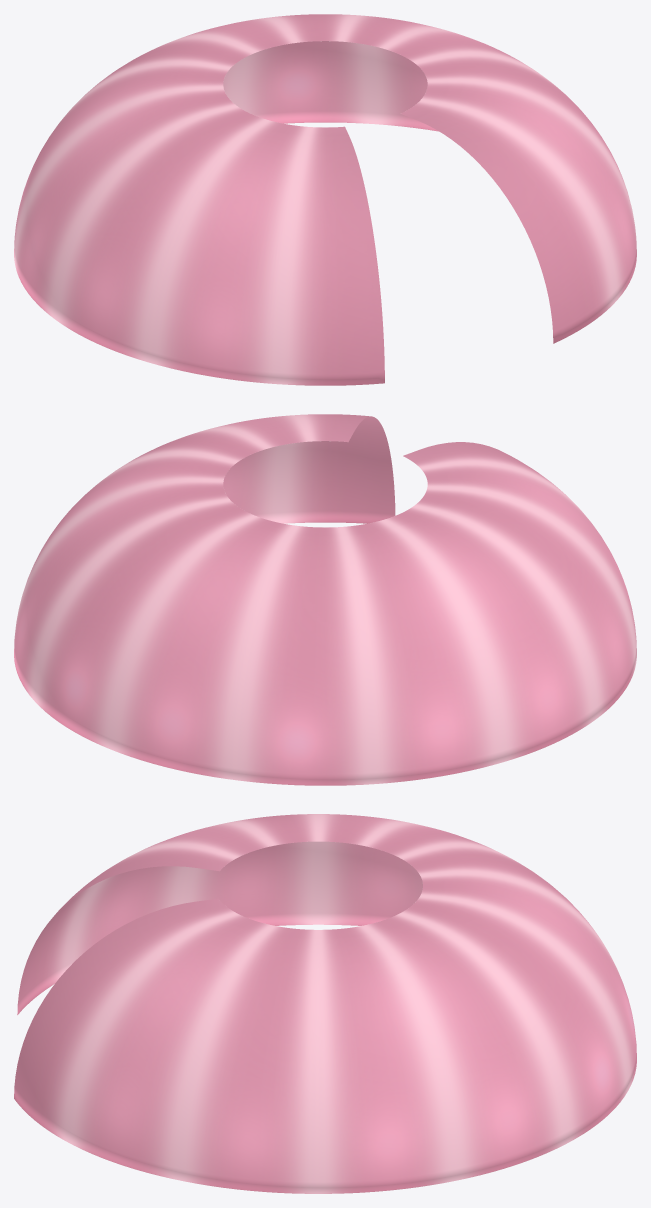
The model's file is Wall_BakedTest.glb.
3 views of the same model, one above another, from view 1: azimuth 30°, elevation 25°; view 2: azimuth 150°, elevation 25°; view 3: azimuth 270°, elevation 25° (orthographic). The views are drawn at different scales.
Visible parts, largest first — view 1: Wall.001; view 2: Wall.001; view 3: Wall.001.
Boxes of the visible parts, x1,y1,x2,y2 form: Wall.001: (14, 14, 636, 385); Wall.001: (14, 414, 636, 785); Wall.001: (14, 814, 636, 1193).
Size of the model in its own units: 50 by 15.04 by 48.9.
Materials: 1 (1 with a texture image).
